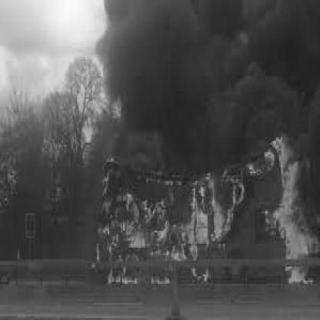Smoke: (67, 1, 317, 127)
